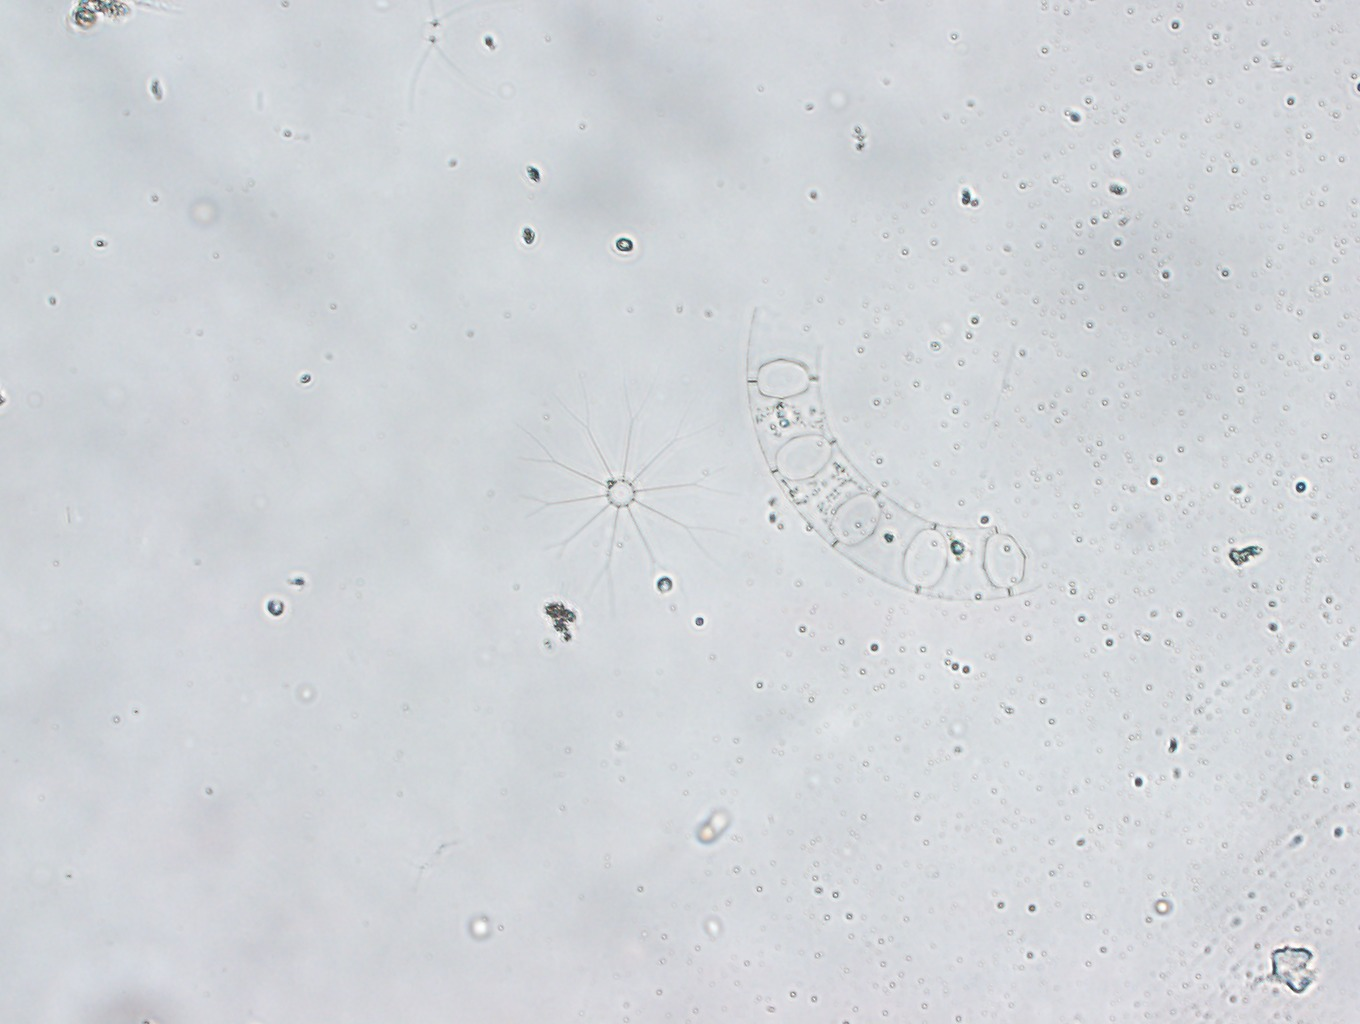bacteriastrum: (516, 379, 731, 596)
eucampia: (746, 305, 1041, 601)
